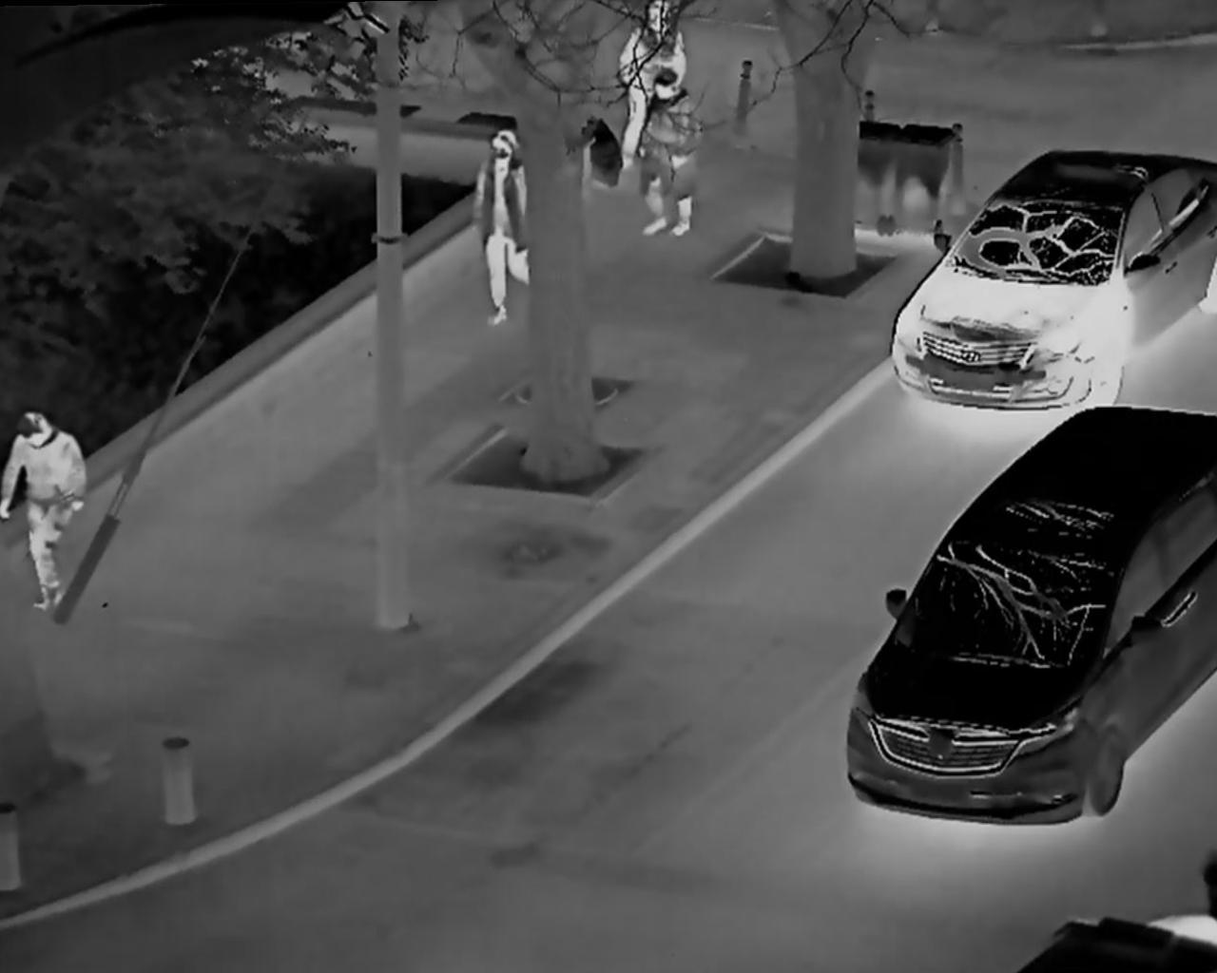person: (7, 403, 87, 629), (469, 122, 543, 326), (608, 3, 687, 180), (632, 66, 705, 244)
